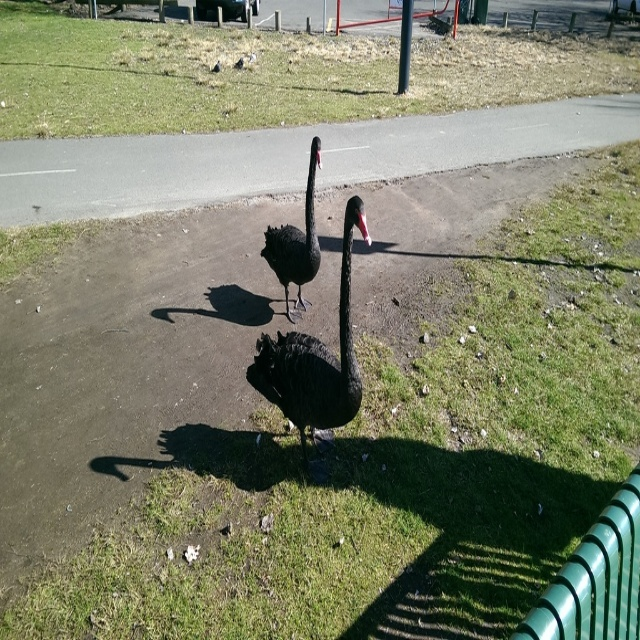Duck: (248, 202, 375, 450), (258, 138, 324, 315)
